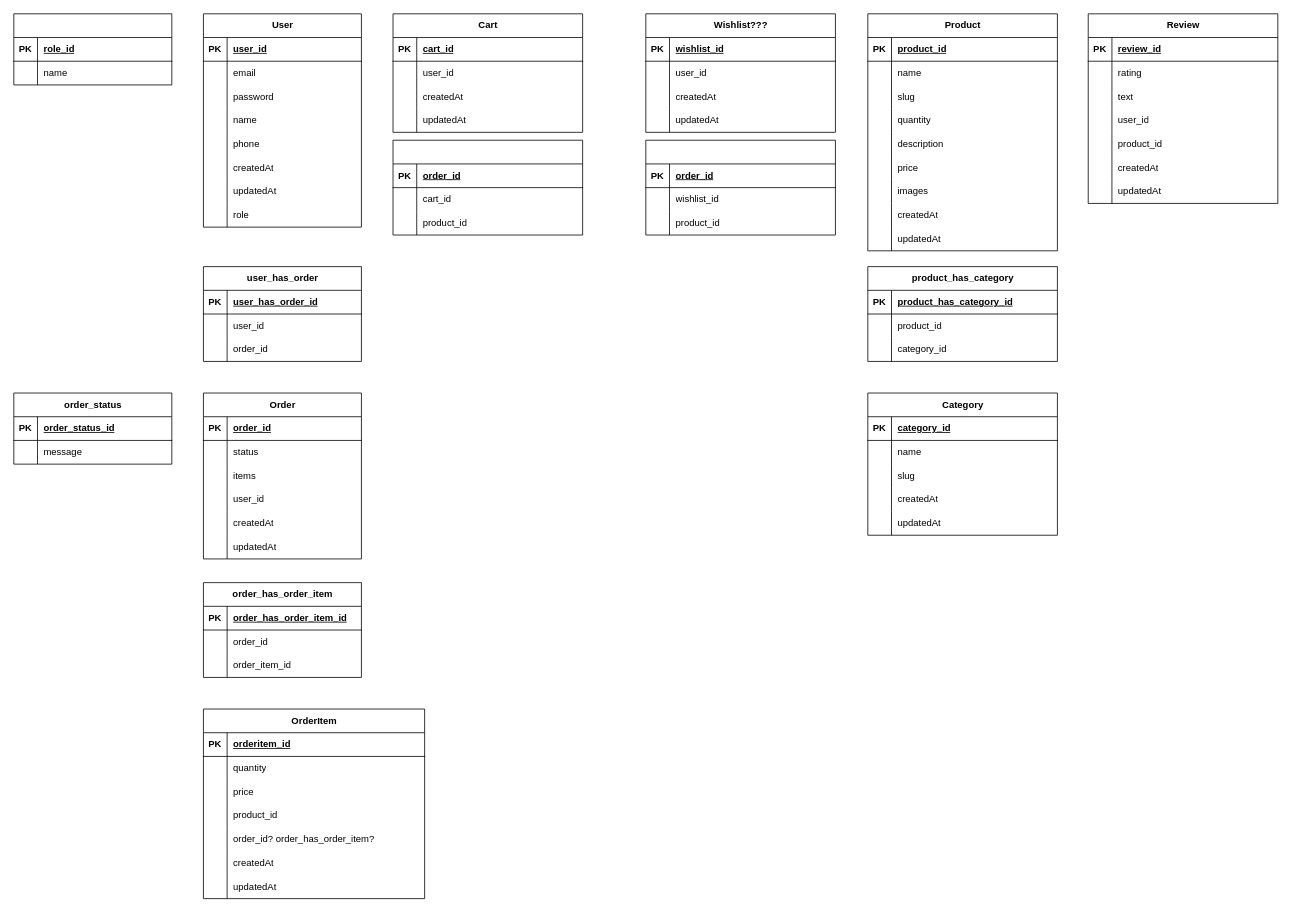
Some shapes in this 1292 by 912 pixel diagram are drawn without their labels. The box of each missing label's shape, as (x1, y1, x2, y2) in pixels:
cart_has_product: (392, 139, 583, 235)
Roles: (13, 13, 172, 85)
wishlist_has_product: (645, 139, 835, 235)
